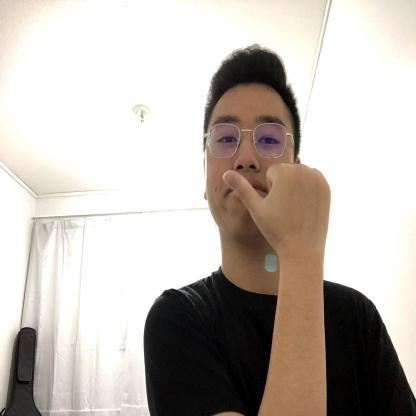right: (222, 159, 330, 252)
